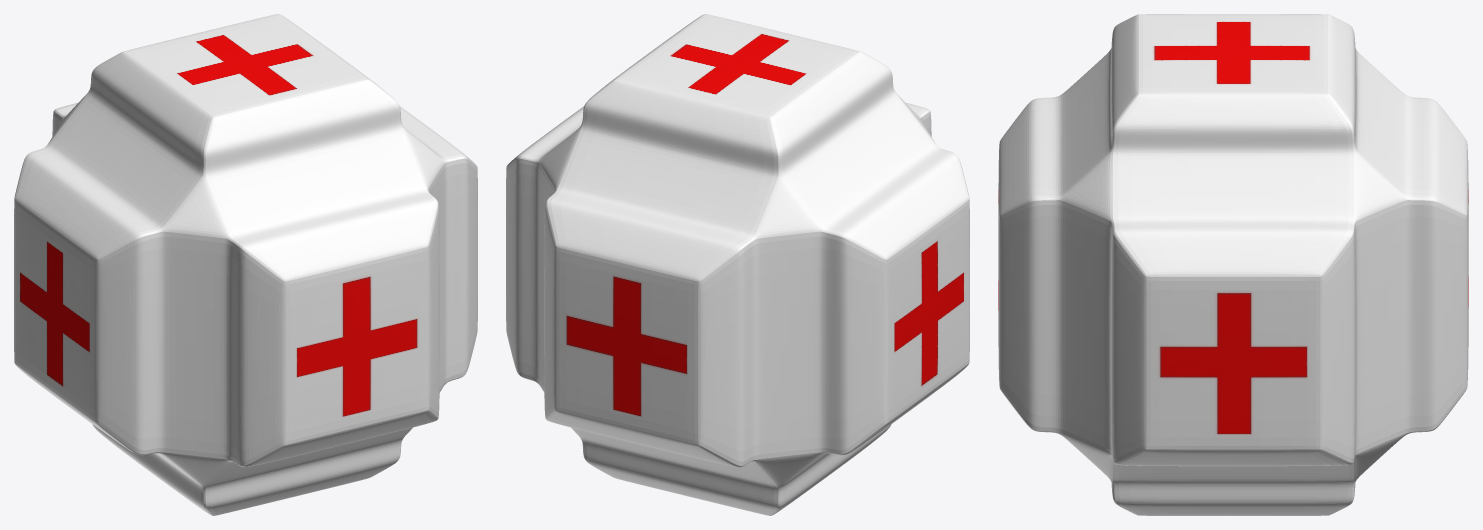
The model's file is healthpack.dae.
3 views of the same model, side by side, from view 1: azimuth 30°, elevation 25°; view 2: azimuth 150°, elevation 25°; view 3: azimuth 270°, elevation 25° (orthographic). The views are drawn at different scales.
Parts seen in each view (by area): view 1: Cube; view 2: Cube; view 3: Cube.
Boxes of the visible parts, <box> form: Cube: <box>14,14,477,515</box>; Cube: <box>506,14,969,515</box>; Cube: <box>998,14,1468,515</box>.
Bounding box in the file's own units: 6.93 × 6.98 × 6.94.
1 material, 1 textured.
